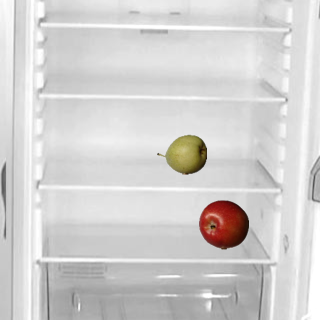Apple Braeburn: (198, 199, 248, 249)
Pear: (156, 129, 206, 179)
